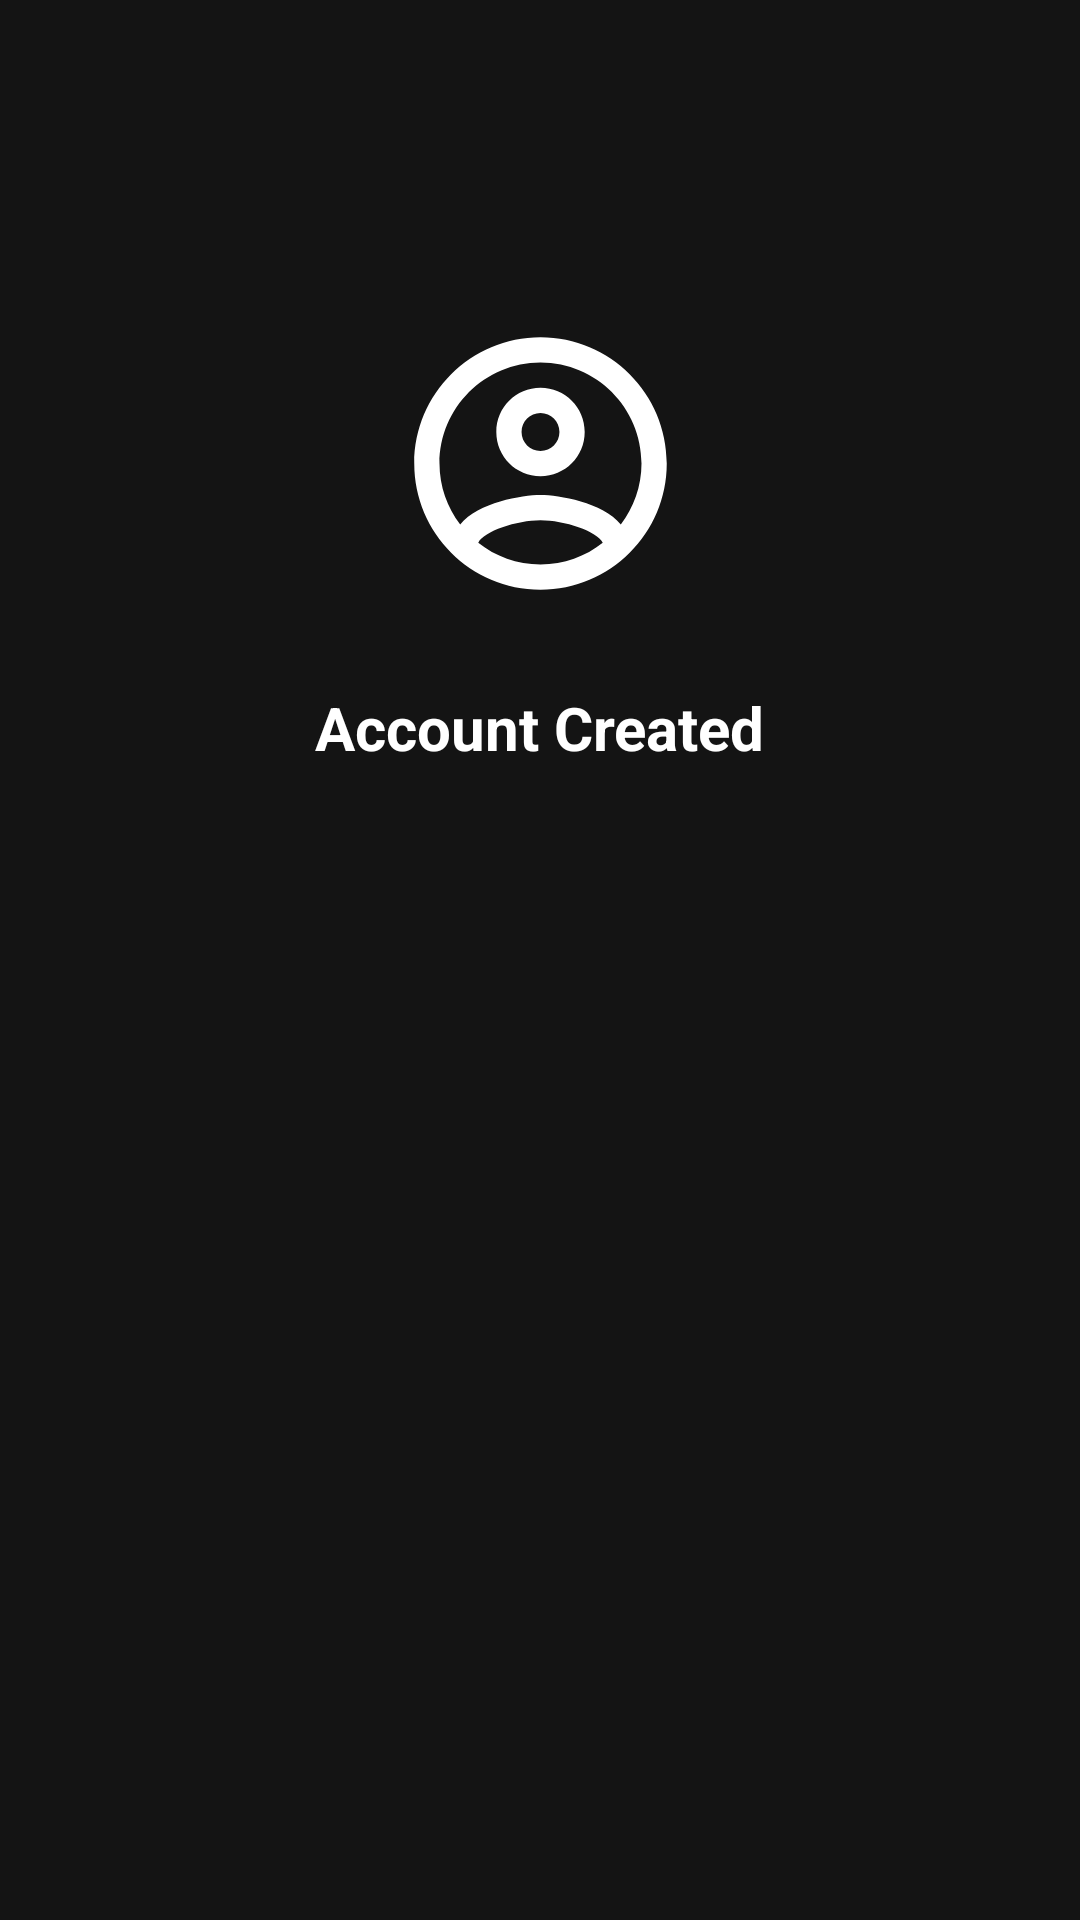

Icons on this 1080 × 1920 Android screen, each with its box as bbox=(x1, y1, x2, y2):
account circle: bbox=(414, 337, 667, 590)
